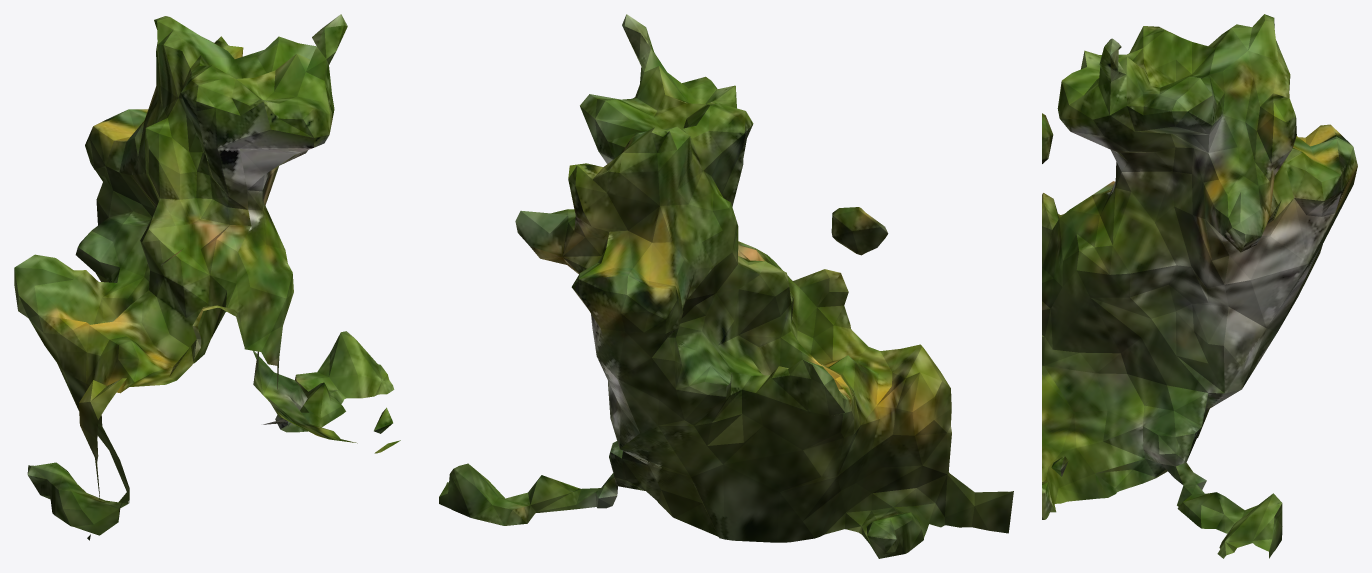
The picture shows the model from 3 angles, left to right: view 1: azimuth 30°, elevation 25°; view 2: azimuth 150°, elevation 25°; view 3: azimuth 270°, elevation 25°; orthographic projection. The views are drawn at different scales.
Bounding box in the file's own units: 0.7158 × 0.6805 × 0.4181.
3 materials, 3 textured.
